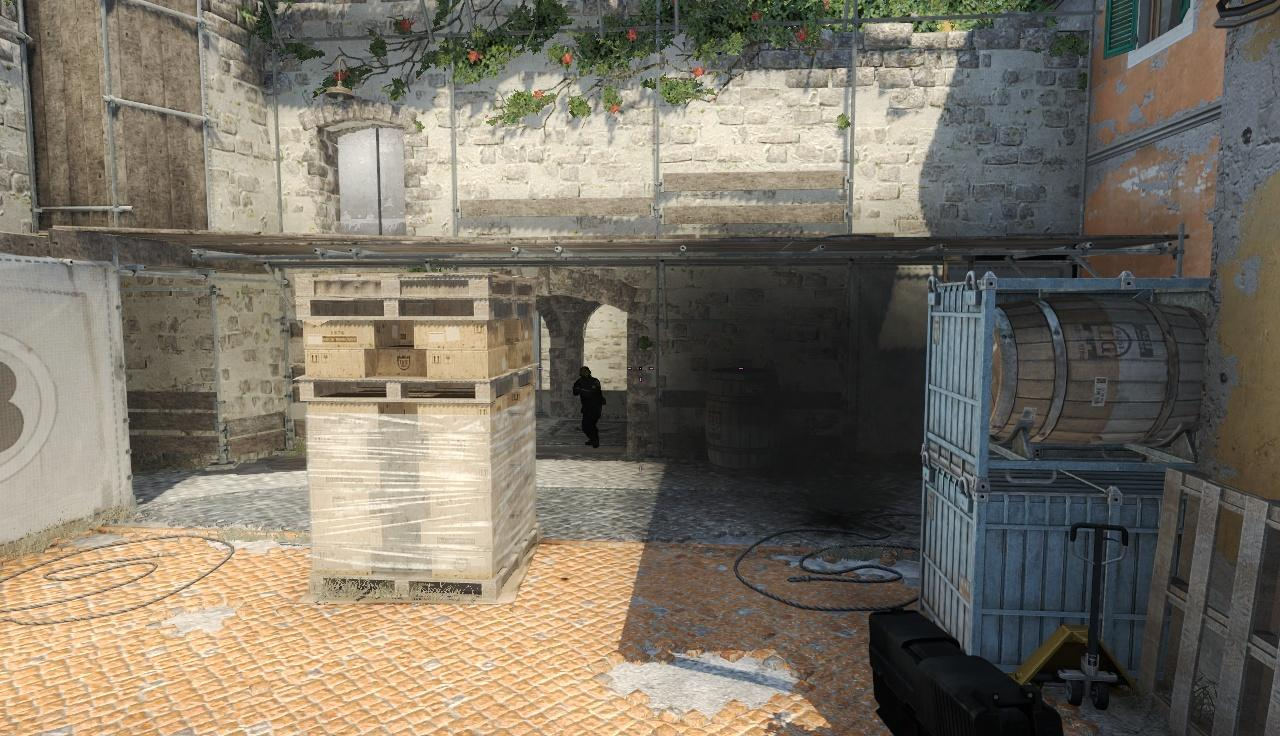ct: (575, 367, 603, 449)
cthead: (580, 367, 592, 380)
pistol: (857, 603, 1069, 736)
